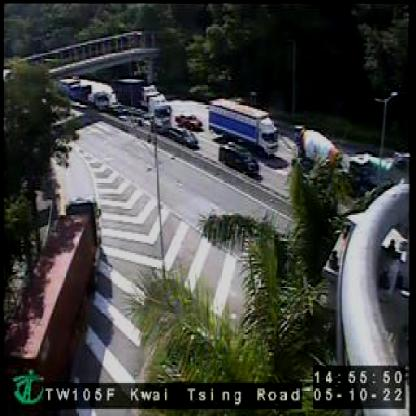Car: (218, 142, 258, 177), (168, 126, 195, 148), (174, 111, 200, 126)
Truck: (0, 196, 99, 409), (295, 128, 369, 184), (208, 97, 276, 154), (106, 99, 168, 133), (115, 73, 158, 102)
